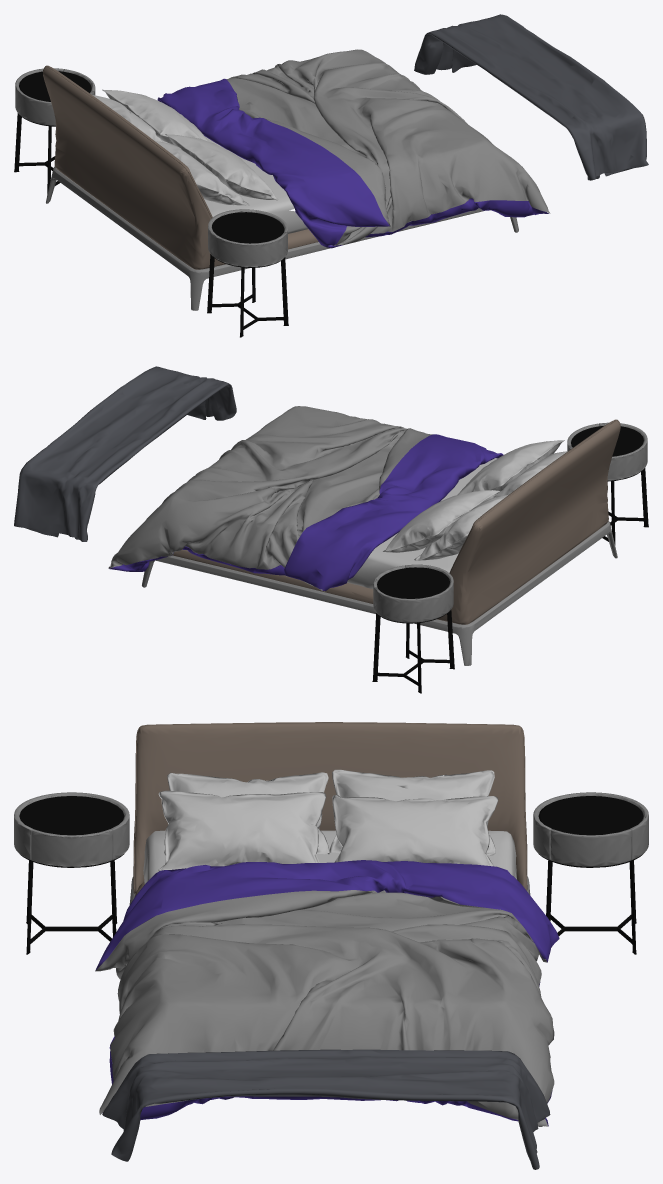
The model's file is chuang.FBX.
The picture shows the model from 3 angles, top to bottom: view 1: azimuth 30°, elevation 25°; view 2: azimuth 150°, elevation 25°; view 3: azimuth 270°, elevation 25°; orthographic projection. The views are drawn at different scales.
Parts seen in each view (by area): view 1: beitaoA, xiadele_Kelly_Base, xiadele_Kelly_Plaid_01, beitaoB, xiadele_Kelly_NightTable, xiadele_Kelly_NightTable001, Zhentou_A, xiadele_Kelly_Pillows, Zhentou_B, xiadele_Kelly_Blanket, Chuangtou; view 2: beitaoA, xiadele_Kelly_Base, xiadele_Kelly_Plaid_01, beitaoB, xiadele_Kelly_NightTable001, xiadele_Kelly_NightTable, Zhentou_B, xiadele_Kelly_Pillows, Zhentou_A, xiadele_Kelly_Blanket; view 3: beitaoA, Chuangtou, xiadele_Kelly_Plaid_01, beitaoB, Zhentou_A, Zhentou_B, xiadele_Kelly_NightTable, xiadele_Kelly_NightTable001, xiadele_Kelly_Pillows, xiadele_Kelly_Blanket, xiadele_Kelly_Base.
Part boxes in pixels (x1,y1,x2,y2): beitaoA: (226, 49, 550, 245); xiadele_Kelly_Base: (43, 66, 518, 310); xiadele_Kelly_Plaid_01: (414, 14, 648, 180); beitaoB: (157, 78, 548, 248); xiadele_Kelly_NightTable: (207, 209, 288, 337); xiadele_Kelly_NightTable001: (14, 68, 95, 194); Zhentou_A: (165, 134, 277, 200); xiadele_Kelly_Pillows: (92, 95, 249, 205); Zhentou_B: (102, 89, 208, 145); xiadele_Kelly_Blanket: (204, 136, 307, 233); Chuangtou: (46, 65, 212, 217); beitaoA: (108, 406, 432, 591); xiadele_Kelly_Base: (142, 420, 620, 665); xiadele_Kelly_Plaid_01: (14, 366, 236, 541); beitaoB: (109, 434, 503, 591); xiadele_Kelly_NightTable001: (372, 564, 454, 693); xiadele_Kelly_NightTable: (567, 422, 648, 544); Zhentou_B: (383, 490, 500, 552); xiadele_Kelly_Pillows: (414, 451, 567, 560); Zhentou_A: (457, 440, 564, 494); xiadele_Kelly_Blanket: (347, 458, 497, 588); beitaoA: (95, 890, 559, 1126); Chuangtou: (134, 723, 526, 893); xiadele_Kelly_Plaid_01: (102, 1049, 550, 1169); beitaoB: (95, 860, 559, 1126); Zhentou_A: (158, 790, 326, 871); Zhentou_B: (332, 795, 498, 866); xiadele_Kelly_NightTable: (14, 792, 129, 954); xiadele_Kelly_NightTable001: (533, 792, 648, 954); xiadele_Kelly_Pillows: (164, 769, 495, 855); xiadele_Kelly_Blanket: (143, 830, 516, 883); xiadele_Kelly_Base: (129, 722, 530, 904).
Bounding box in the file's own units: 3097 × 917 × 2734.
